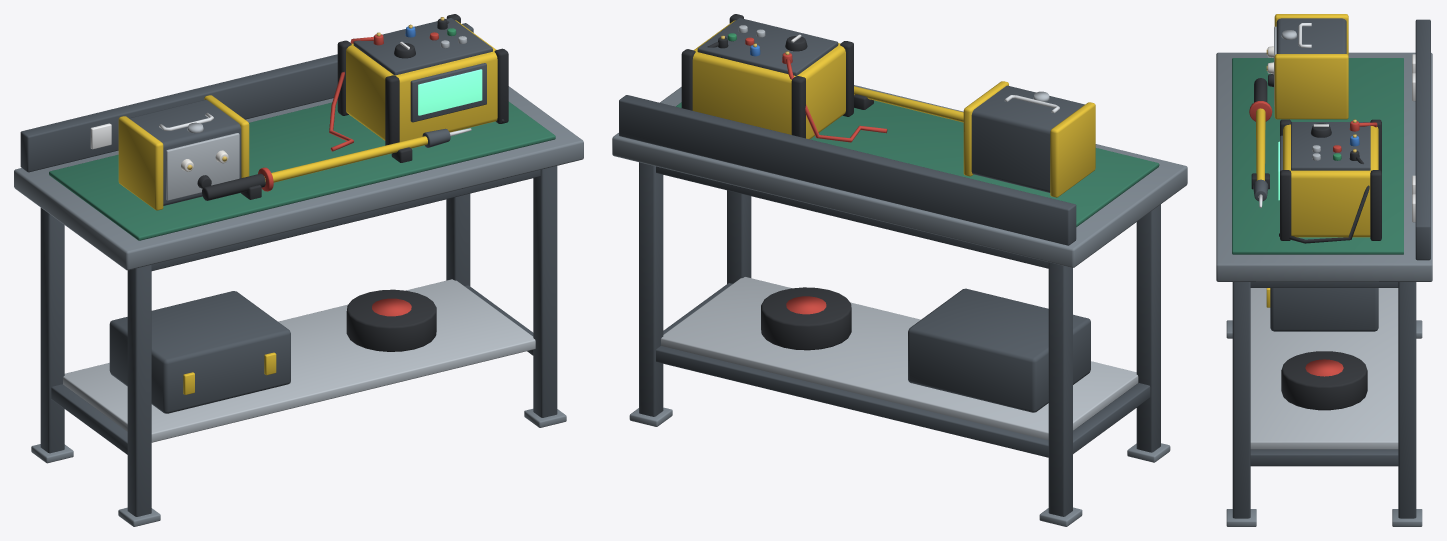
Rendered from test-bench.glb.
The picture shows the model from 3 angles, left to right: view 1: azimuth 30°, elevation 25°; view 2: azimuth 150°, elevation 25°; view 3: azimuth 270°, elevation 25°; orthographic projection. The views are drawn at different scales.
Parts seen in each view (by area): view 1: TestBenchAssembly; view 2: TestBenchAssembly; view 3: TestBenchAssembly.
Boxes of the visible parts, x1,y1,x2,y2 form: TestBenchAssembly: (14, 14, 583, 526); TestBenchAssembly: (612, 14, 1187, 526); TestBenchAssembly: (1216, 14, 1432, 526).
Bounding box in the file's own units: 1.58 × 1.22 × 0.68.
